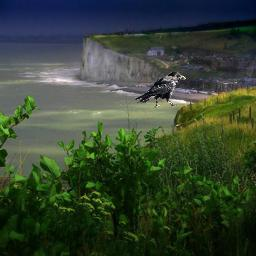Crow: (134, 71, 186, 109)
